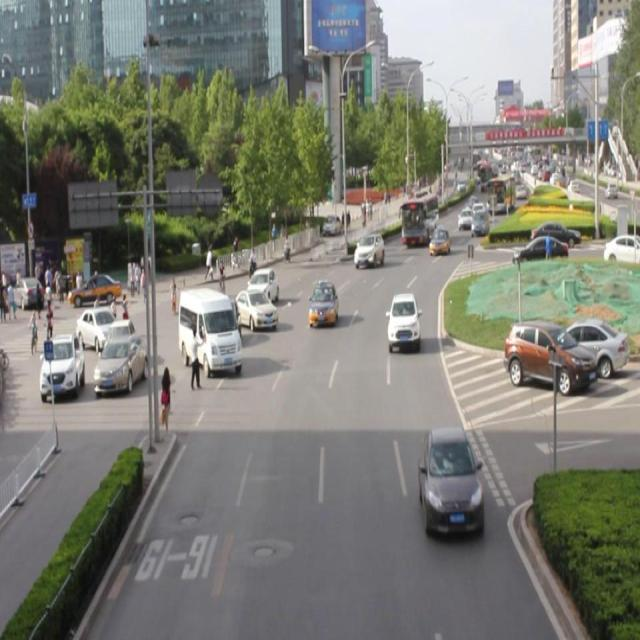car: (418, 426, 482, 532), (234, 289, 277, 330), (387, 293, 419, 348), (309, 280, 338, 328), (246, 267, 278, 302), (354, 232, 384, 266)
truck: (180, 289, 242, 371)
